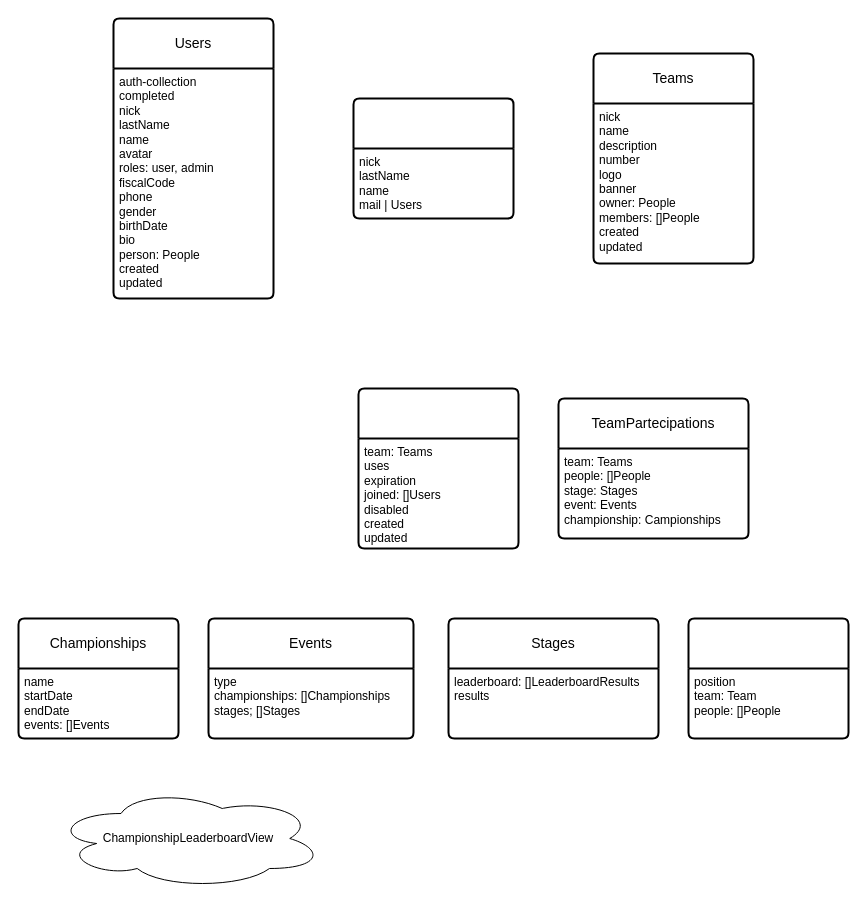
Image size: 866x906. Some labels were removed from this diagram. The box of each missing label's shape, as (x1, y1, x2, y2) in pixels:
LeaderboardResults: (687, 617, 849, 739)
People: (352, 97, 514, 219)
TeamInvitations: (357, 387, 519, 549)
